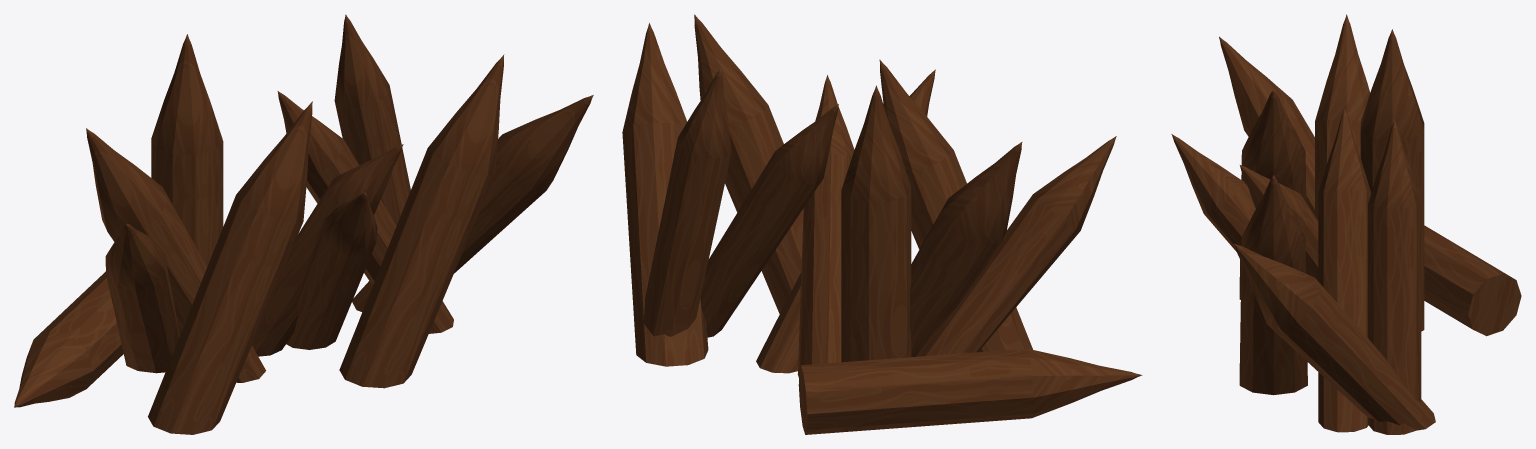
File: group_of_stakes.fbx
The picture shows the model from 3 angles, left to right: view 1: azimuth 30°, elevation 25°; view 2: azimuth 150°, elevation 25°; view 3: azimuth 270°, elevation 25°; orthographic projection. The views are drawn at different scales.
Parts seen in each view (by area): view 1: group_of_stakes; view 2: group_of_stakes; view 3: group_of_stakes.
Boxes of the visible parts, box(x1,y1,x2,y2) form: group_of_stakes: box(14, 14, 593, 434); group_of_stakes: box(622, 14, 1142, 434); group_of_stakes: box(1171, 14, 1521, 434).
Size of the model in its own units: 26.81 by 15.14 by 16.19.
